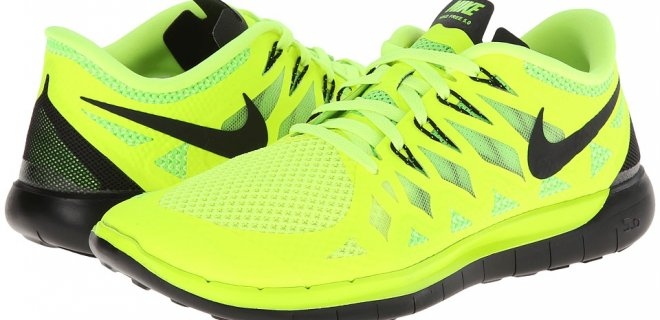nike: (523, 80, 623, 183)
